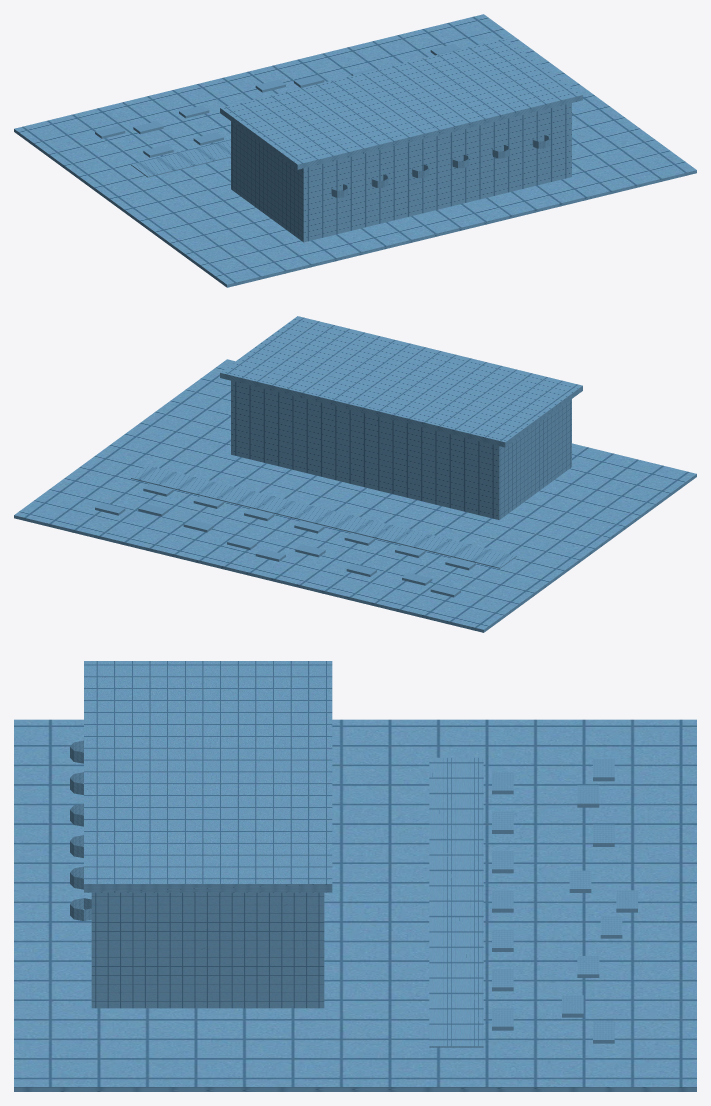
The picture shows the model from 3 angles, top to bottom: view 1: azimuth 30°, elevation 25°; view 2: azimuth 150°, elevation 25°; view 3: azimuth 270°, elevation 25°; orthographic projection. The views are drawn at different scales.
Visible parts, largest first — view 1: 28185_01_21998_007_01_lod2__promenade_base, 28185_01_21998_007_02_lod2__clubhouse_mass, 28185_01_21998_007_04_lod2__boat_cluster; view 2: 28185_01_21998_007_01_lod2__promenade_base, 28185_01_21998_007_02_lod2__clubhouse_mass, 28185_01_21998_007_04_lod2__boat_cluster; view 3: 28185_01_21998_007_01_lod2__promenade_base, 28185_01_21998_007_02_lod2__clubhouse_mass, 28185_01_21998_007_04_lod2__boat_cluster.
Boxes of the visible parts, left/top/right/bottom form: 28185_01_21998_007_01_lod2__promenade_base: left=14, top=14, right=696, bottom=287; 28185_01_21998_007_02_lod2__clubhouse_mass: left=220, top=38, right=582, bottom=242; 28185_01_21998_007_04_lod2__boat_cluster: left=95, top=44, right=549, bottom=197; 28185_01_21998_007_01_lod2__promenade_base: left=14, top=359, right=696, bottom=632; 28185_01_21998_007_02_lod2__clubhouse_mass: left=220, top=316, right=582, bottom=519; 28185_01_21998_007_04_lod2__boat_cluster: left=95, top=483, right=475, bottom=597; 28185_01_21998_007_01_lod2__promenade_base: left=14, top=719, right=696, bottom=1091; 28185_01_21998_007_02_lod2__clubhouse_mass: left=84, top=661, right=332, bottom=1008; 28185_01_21998_007_04_lod2__boat_cluster: left=70, top=740, right=637, bottom=1043.
Bounding box in the file's own units: 56 × 9.65 × 44.
Materials: 4 (4 with a texture image).
